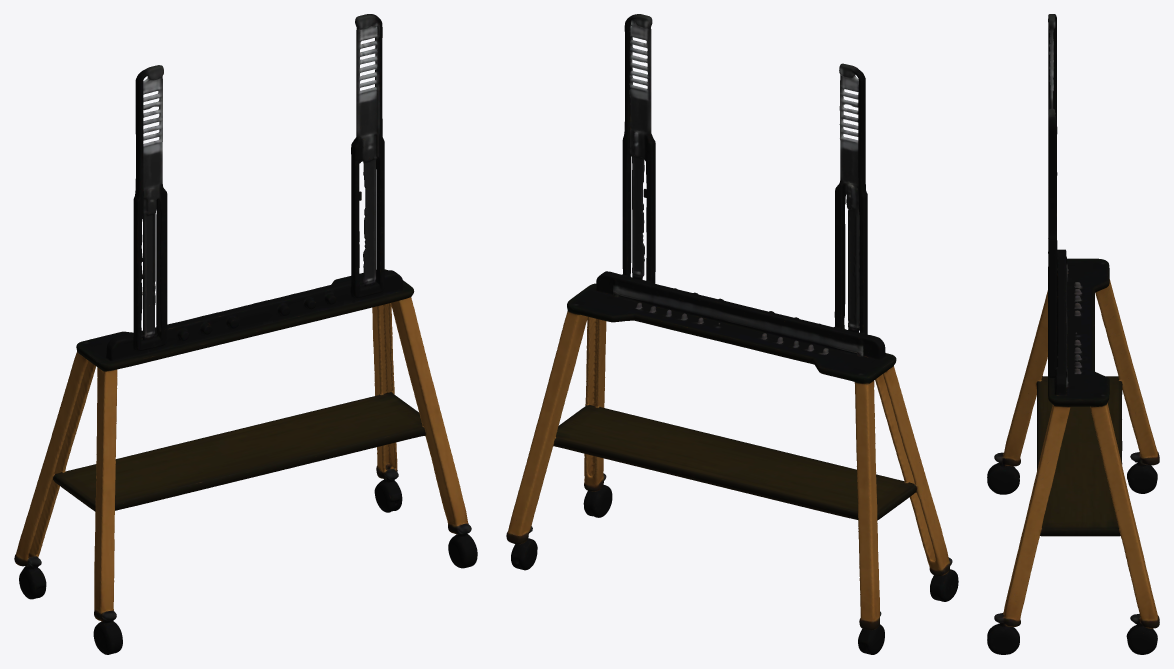
The model's file is 02_木质移动电视支架_仅支架.glb.
3 views of the same model, side by side, from view 1: azimuth 30°, elevation 25°; view 2: azimuth 150°, elevation 25°; view 3: azimuth 270°, elevation 25° (orthographic). The views are drawn at different scales.
Parts seen in each view (by area): view 1: world; view 2: world; view 3: world.
Boxes of the visible parts, bbox=[...] form: world: bbox=[14, 14, 477, 654]; world: bbox=[506, 14, 958, 654]; world: bbox=[987, 14, 1159, 654].
Size of the model in its own units: 0.7258 by 1 by 0.3088.
1 material, 1 textured.
